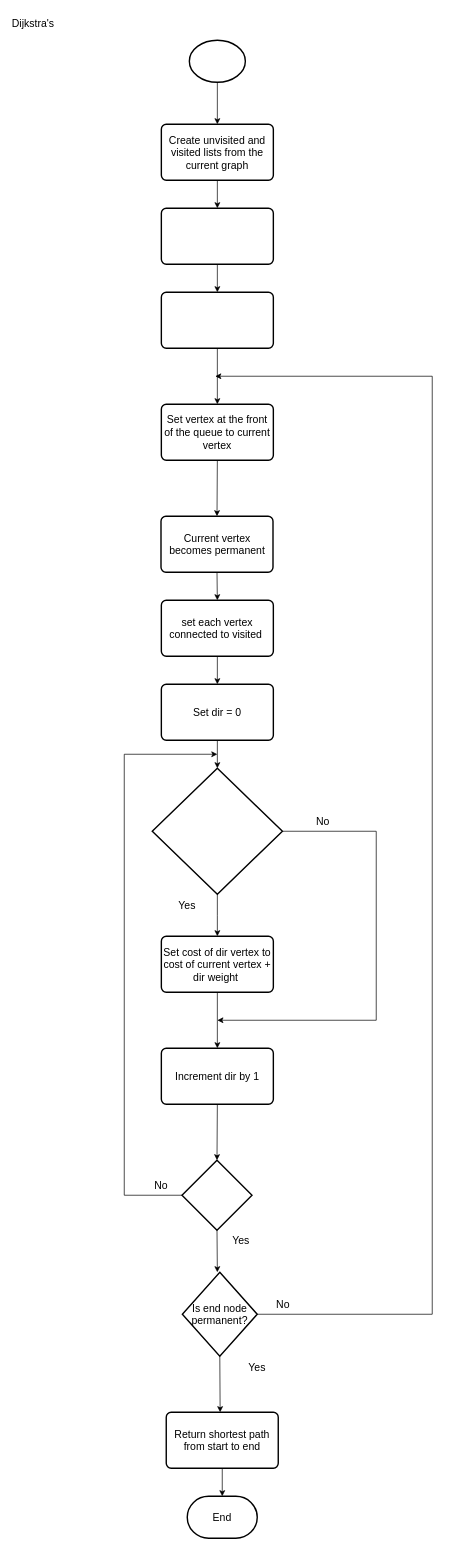
Some shapes in this 450 by 1551 pixel diagram are drawn without their labels. The box of each missing label's shape, as (x1, y1, x2, y2) in pixels:
cost of dir vertex > cost of current vertex + dir weight: (151, 767, 283, 895)
Give all other verticies a weight of infinity: (160, 291, 274, 349)
Give the start vertex a weight 0: (160, 207, 274, 265)
is dir > 3?: (181, 1159, 252, 1231)
start: (188, 39, 246, 83)
